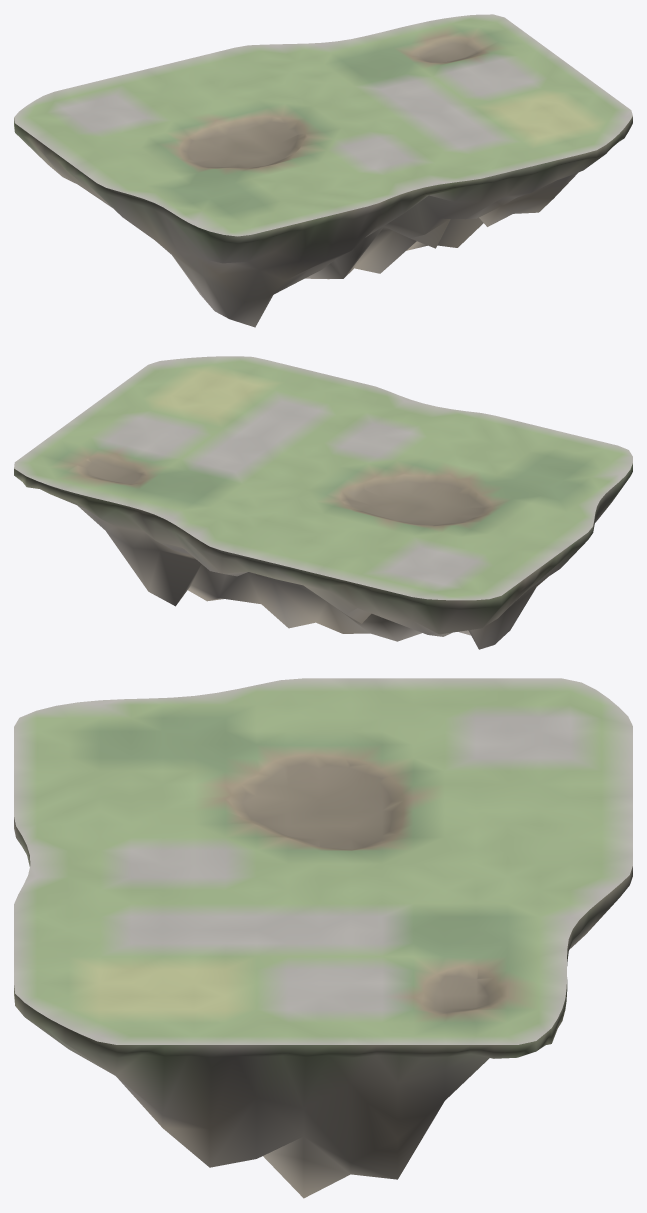
File: SKY-042.rock.glb
3 views of the same model, one above another, from view 1: azimuth 30°, elevation 25°; view 2: azimuth 150°, elevation 25°; view 3: azimuth 270°, elevation 25° (orthographic). The views are drawn at different scales.
Parts seen in each view (by area): view 1: deck-col, rock; view 2: deck-col, rock; view 3: deck-col, rock.
Boxes of the visible parts, <box> form: deck-col: <box>14,14,632,236</box>; rock: <box>14,116,632,327</box>; deck-col: <box>14,356,632,600</box>; rock: <box>14,463,632,649</box>; deck-col: <box>14,678,632,1044</box>; rock: <box>14,817,632,1198</box>.
Size of the model in its own units: 111 by 35.59 by 78.97.
